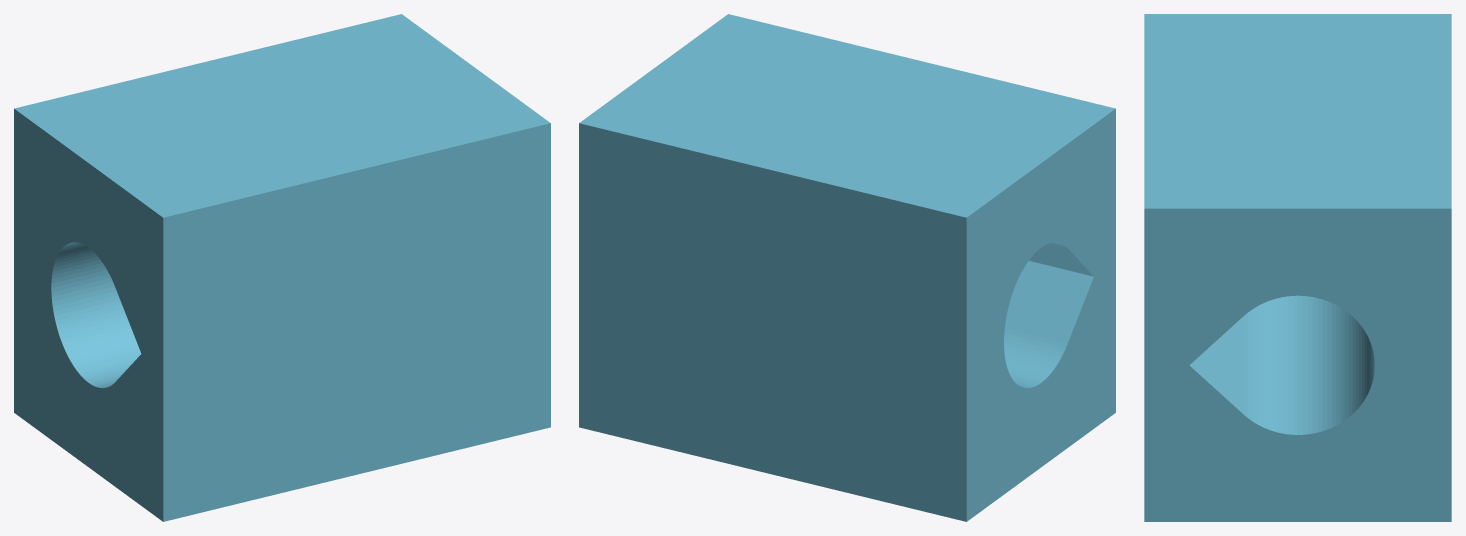
File: teardrop_demo.glb
3 renders of one model, left to right at view 1: azimuth 30°, elevation 25°; view 2: azimuth 150°, elevation 25°; view 3: azimuth 270°, elevation 25°, orthographic. The views are drawn at different scales.
Parts seen in each view (by area): view 1: cut_block; view 2: cut_block; view 3: cut_block.
Part boxes in pixels (x1=…): cut_block: x1=14, y1=14, x2=550, y2=521; cut_block: x1=579, y1=14, x2=1115, y2=521; cut_block: x1=1144, y1=14, x2=1451, y2=521.
Size of the model in its own units: 24 by 18 by 16.
